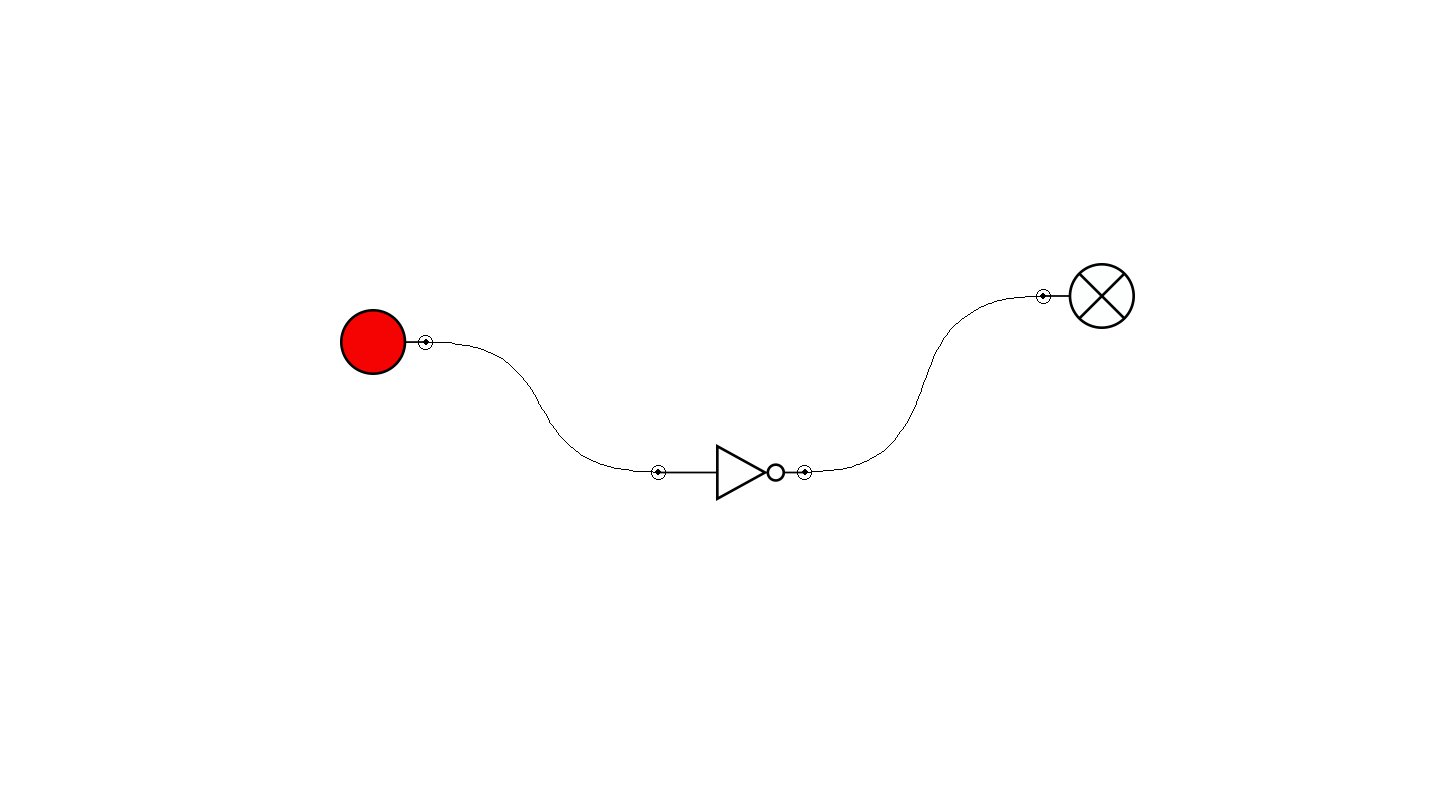bulb: (1036, 263, 1135, 329)
not: (651, 444, 812, 501)
switch_False: (340, 309, 433, 375)
